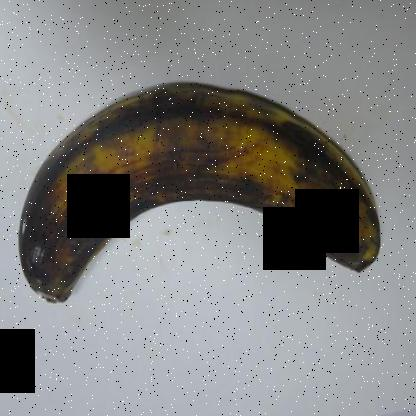overripe: (5, 54, 401, 320)
